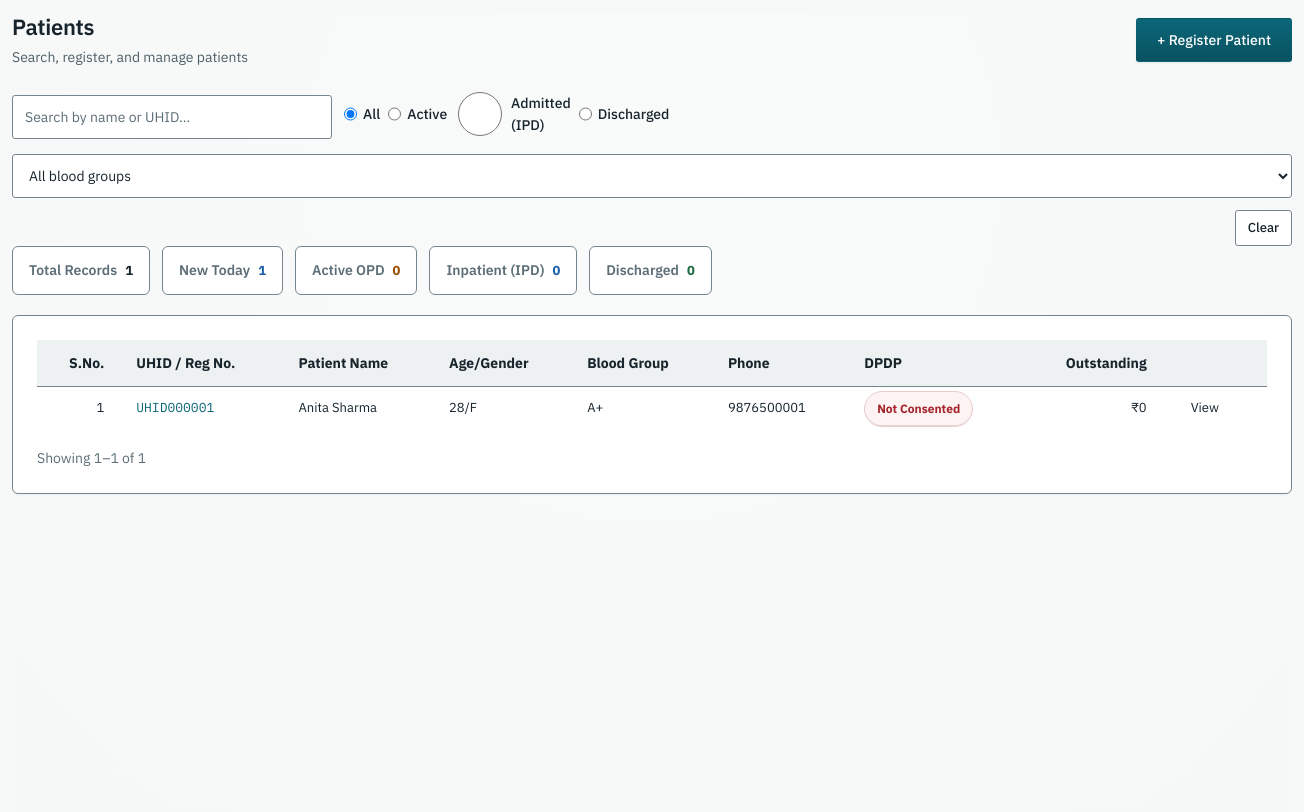
Scenario: late DPDP consent (issue 114) › offers to capture consent for a patient registered without it
The image size is (1304, 812).
Click the text "Anita Sharma": (358, 408) [282,386,433,430]
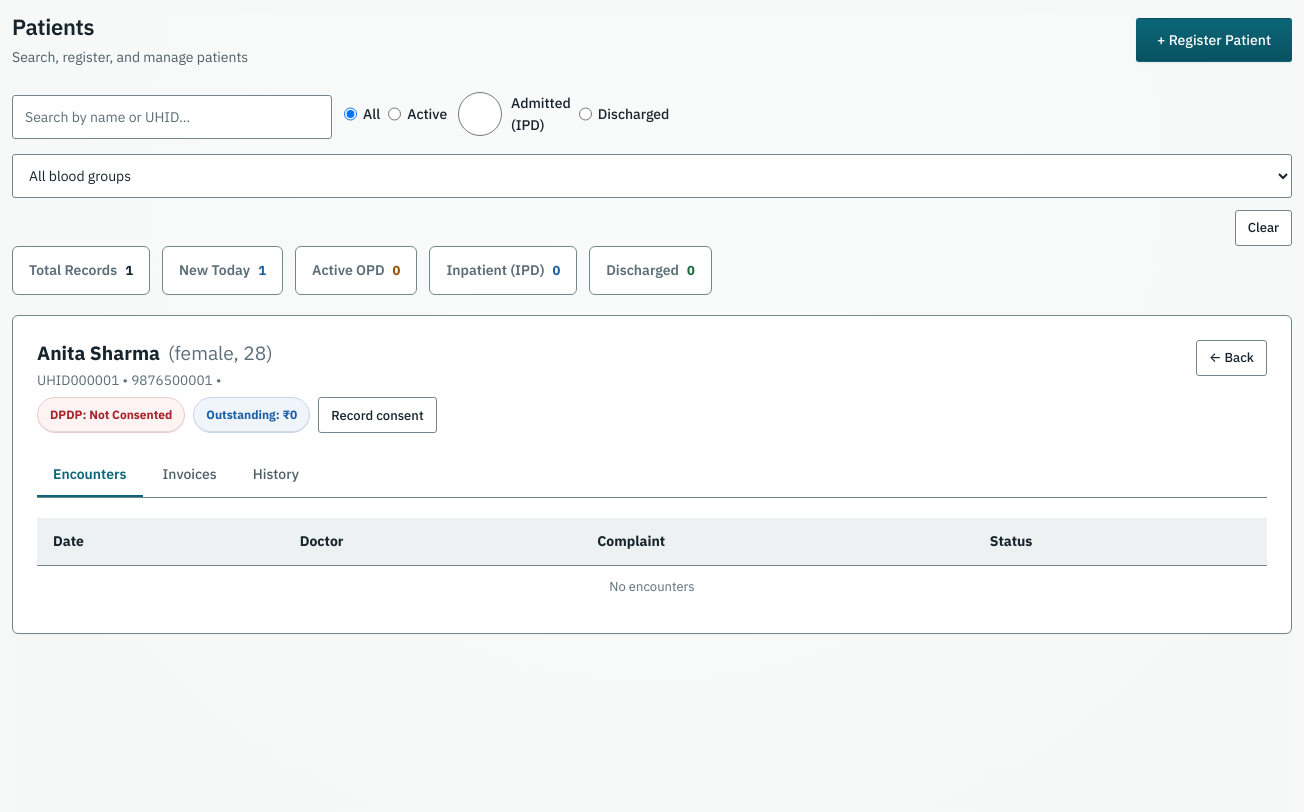
Result: the button "← Back" is shown at [1196,340,1267,376]
Result: the text "DPDP: Not Consented" is shown at [37,397,185,433]
Click the button "Record consent": (378, 415) [318,397,437,433]
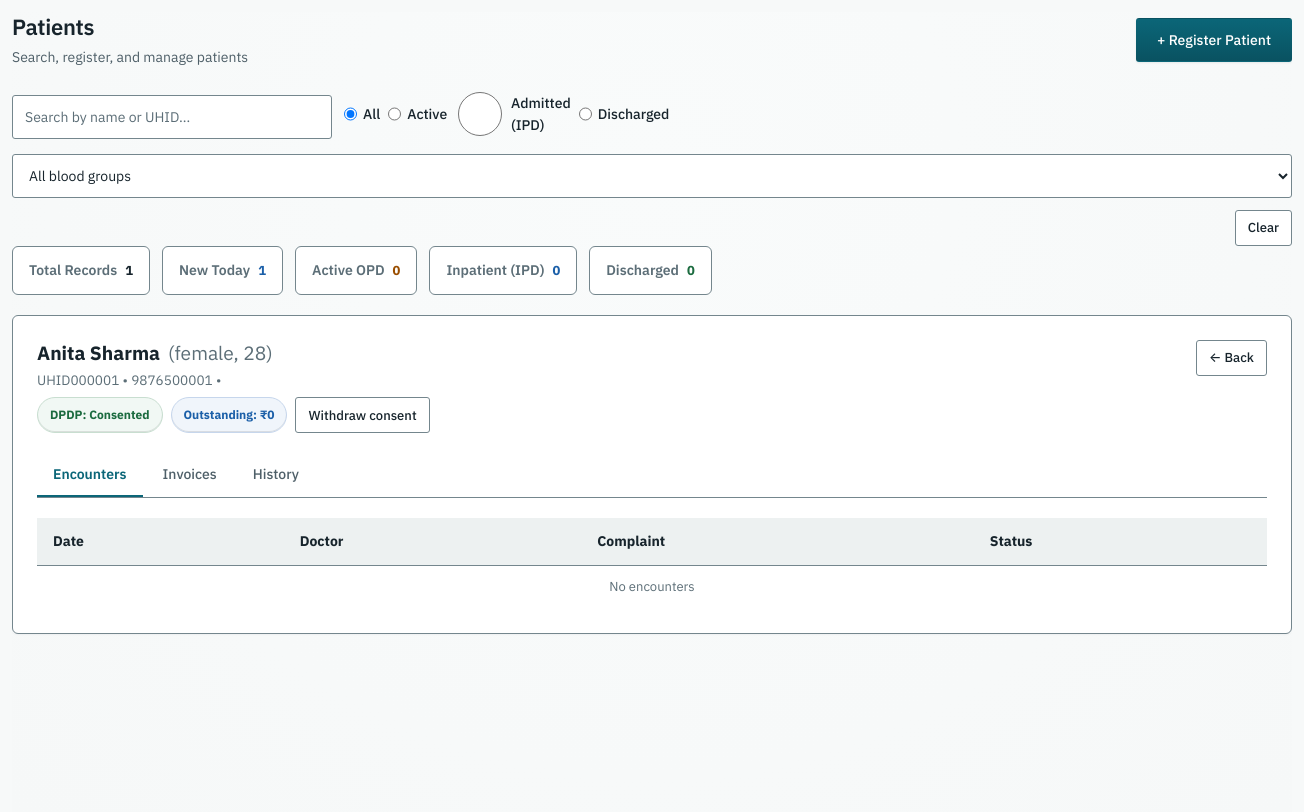
Result: the text "DPDP: Consented" is shown at [37,397,162,433]
Result: the text "DPDP: Not Consented" is gone
